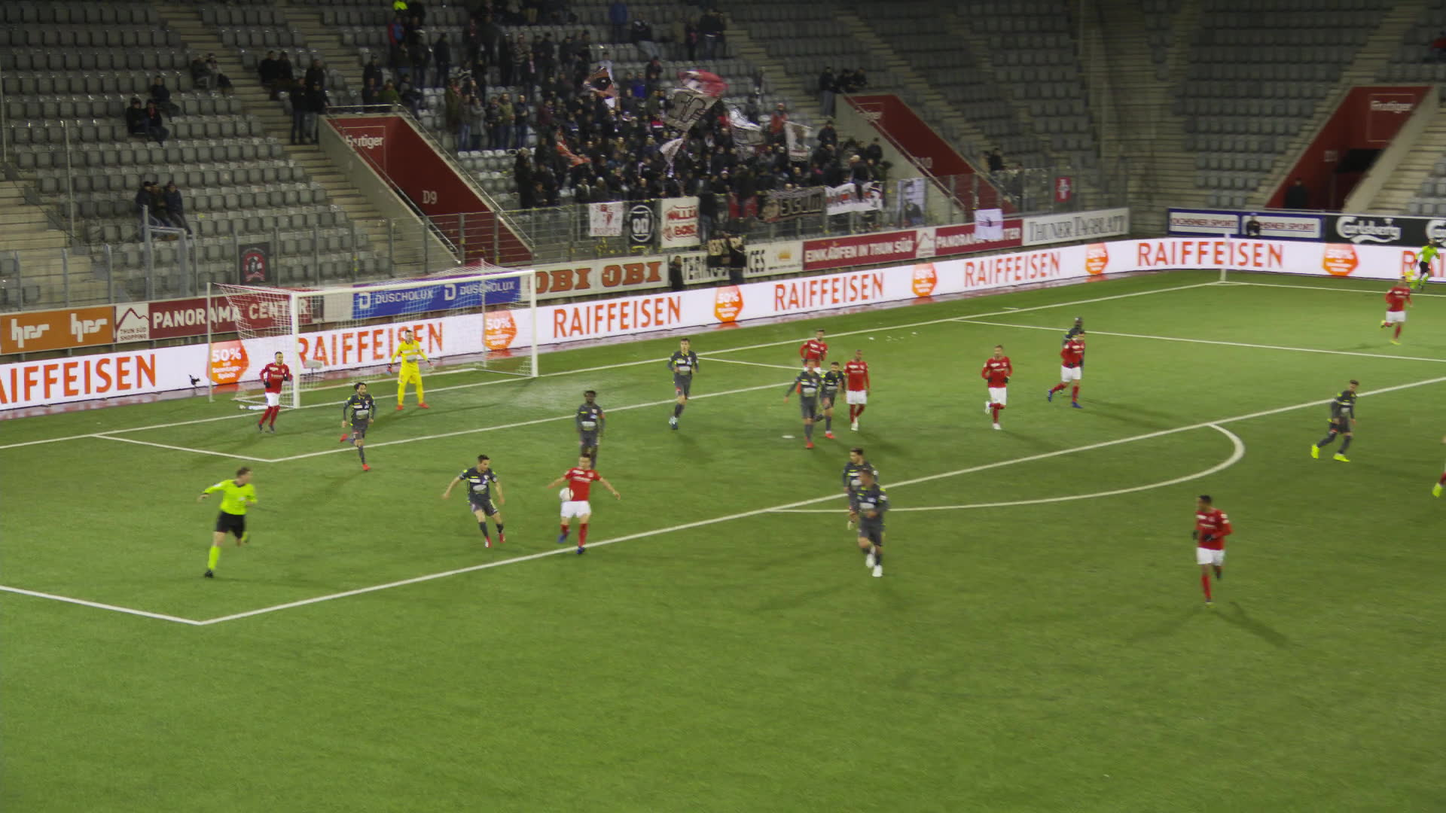ball: (560, 487, 574, 501)
player: (548, 453, 611, 550), (451, 454, 512, 551), (854, 465, 896, 580), (1192, 494, 1231, 607), (387, 330, 434, 411), (1319, 379, 1362, 462), (787, 359, 826, 448), (251, 352, 291, 436), (844, 443, 875, 549), (664, 338, 697, 434), (341, 382, 375, 467), (981, 342, 1013, 428), (572, 386, 607, 464), (1054, 329, 1088, 407), (845, 349, 872, 431), (819, 359, 846, 438), (1383, 273, 1413, 343), (1063, 317, 1091, 382), (801, 326, 830, 384), (1430, 429, 1445, 497)
referee: (212, 467, 261, 572), (1414, 242, 1432, 286)
